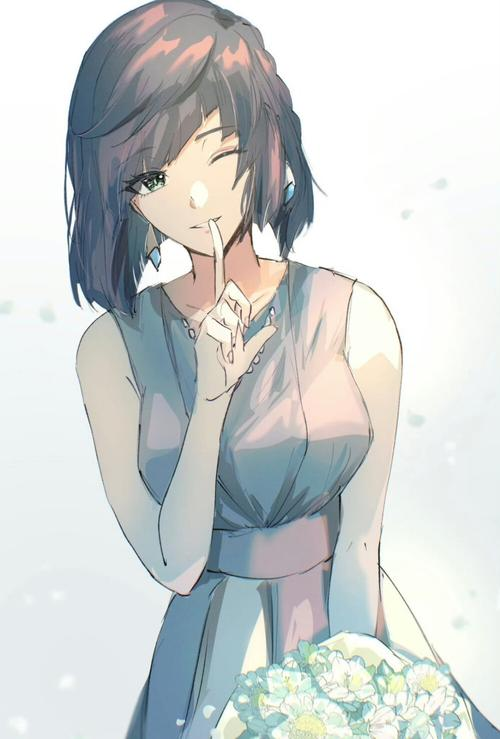夜兰: (64, 2, 407, 739)
